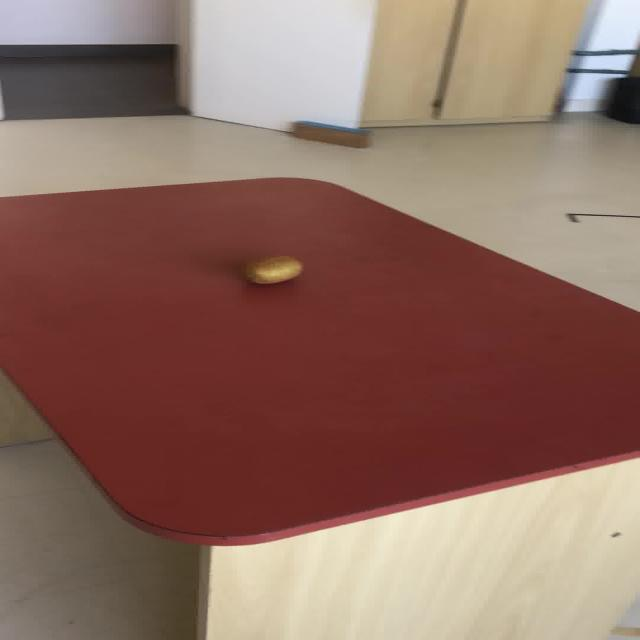kiwi: (244, 255, 302, 284)
